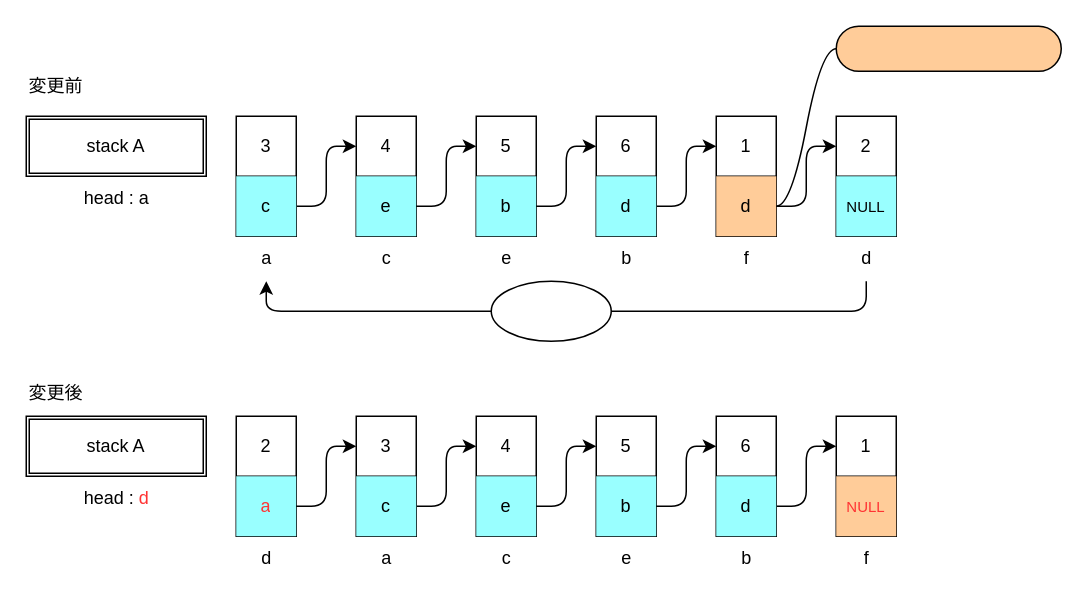
Image size: 1088x608. Some labels were removed from this diagram. The shapes that lost their labels are listed below. From the top down, each one's centre as x and y in pixels, then its label:
At (x=948, y=48): "先頭ノードから辿る必要".
At (x=550, y=310): "rra".
